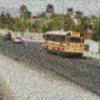buses: (42, 31, 85, 57)
